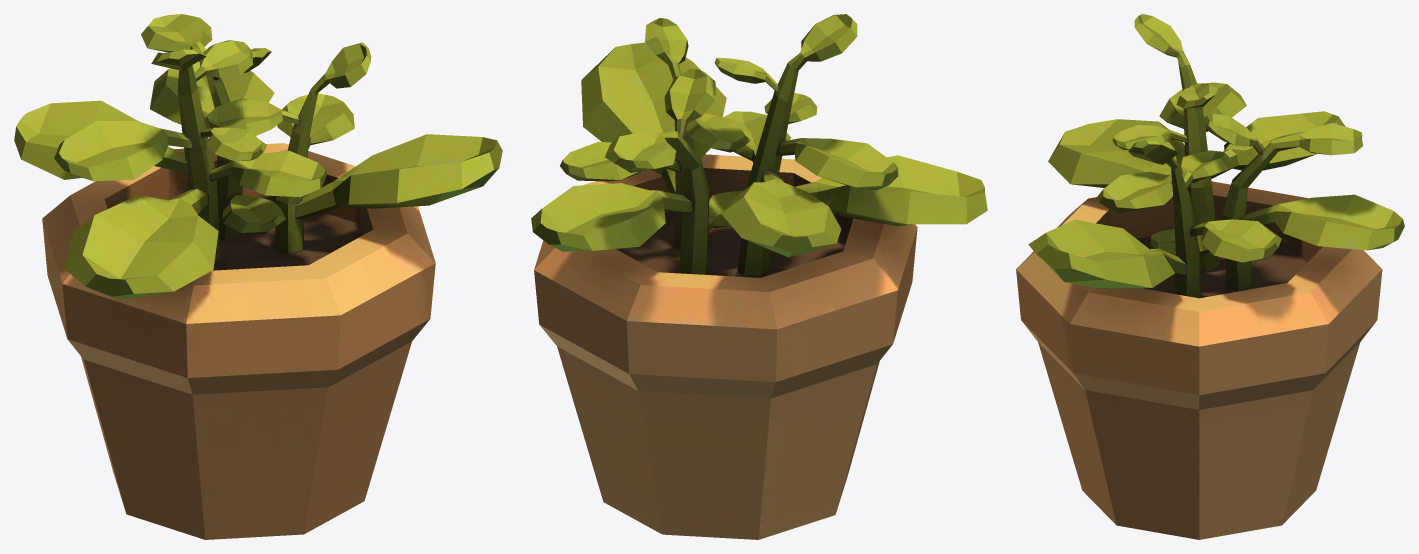
Rendered from 1SyGonHVM0L.glb.
3 views of the same model, side by side, from view 1: azimuth 30°, elevation 25°; view 2: azimuth 150°, elevation 25°; view 3: azimuth 270°, elevation 25° (orthographic). The views are drawn at different scales.
Parts seen in each view (by area): view 1: House_plant_; view 2: House_plant_; view 3: House_plant_.
Boxes of the visible parts, box(x1,y1,x2,y2) form: House_plant_: box(14, 14, 502, 539); House_plant_: box(531, 14, 987, 539); House_plant_: box(1016, 14, 1404, 539).
Size of the model in its own units: 0.8894 by 1 by 0.8102.
Materials: 1 (1 with a texture image).
